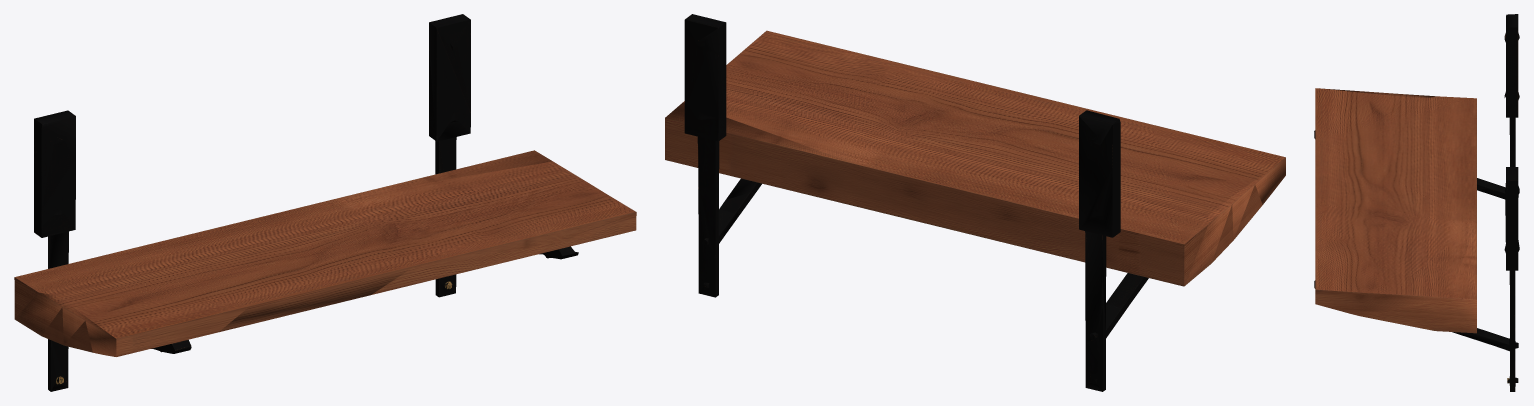
The model's file is PR_WallShelf.fbx.
3 renders of one model, left to right at view 1: azimuth 30°, elevation 25°; view 2: azimuth 150°, elevation 25°; view 3: azimuth 270°, elevation 25°, orthographic. The views are drawn at different scales.
Visible parts, largest first — view 1: Mesh_0; view 2: Mesh_0; view 3: Mesh_0.
Part boxes in pixels (x1,y1,x2,y2): Mesh_0: [14, 14, 636, 391]; Mesh_0: [665, 14, 1285, 391]; Mesh_0: [1314, 14, 1519, 391].
Bounding box in the file's own units: 190 × 95.11 × 81.89.
1 material, 1 textured.
